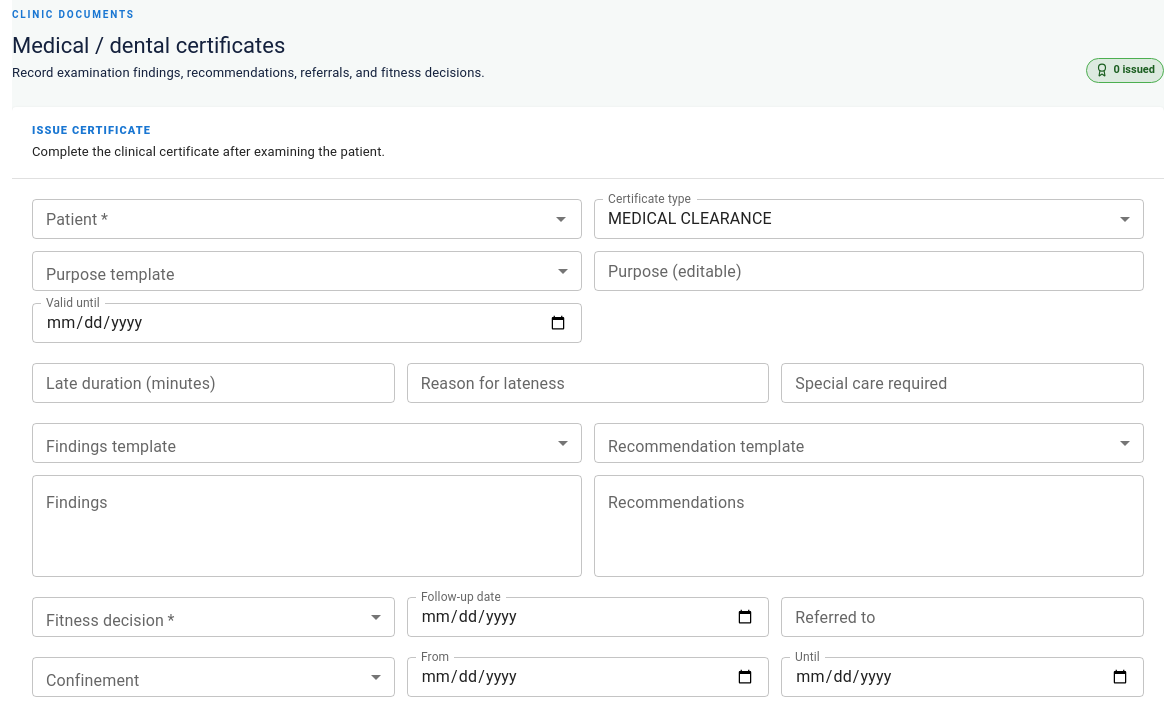
Test case: patient selection across clinical forms › Certificates puts the chosen patient in the input
The image size is (1164, 720).
Click the dropdown with placeholder "Search name or patient ID" at (290, 219), box top-left (38, 205), bottom-right (543, 233)
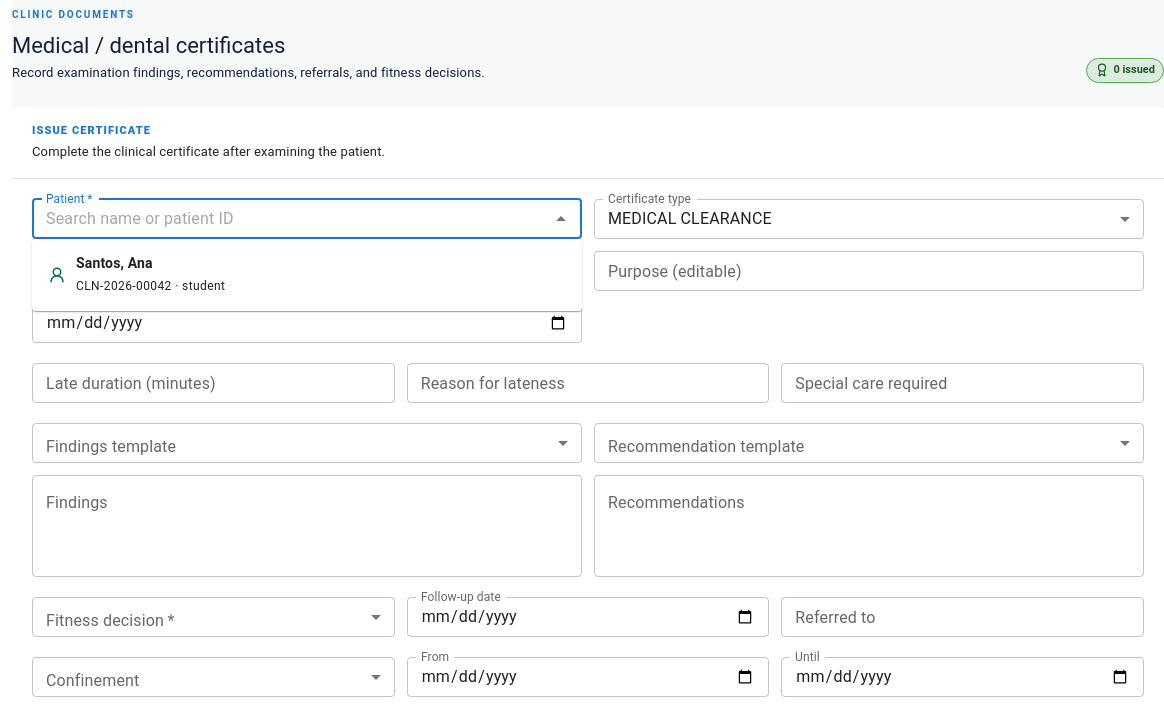
Click the option "Santos, Ana CLN-2026-00042 · student" at (137, 274), box top-left (48, 255), bottom-right (225, 293)
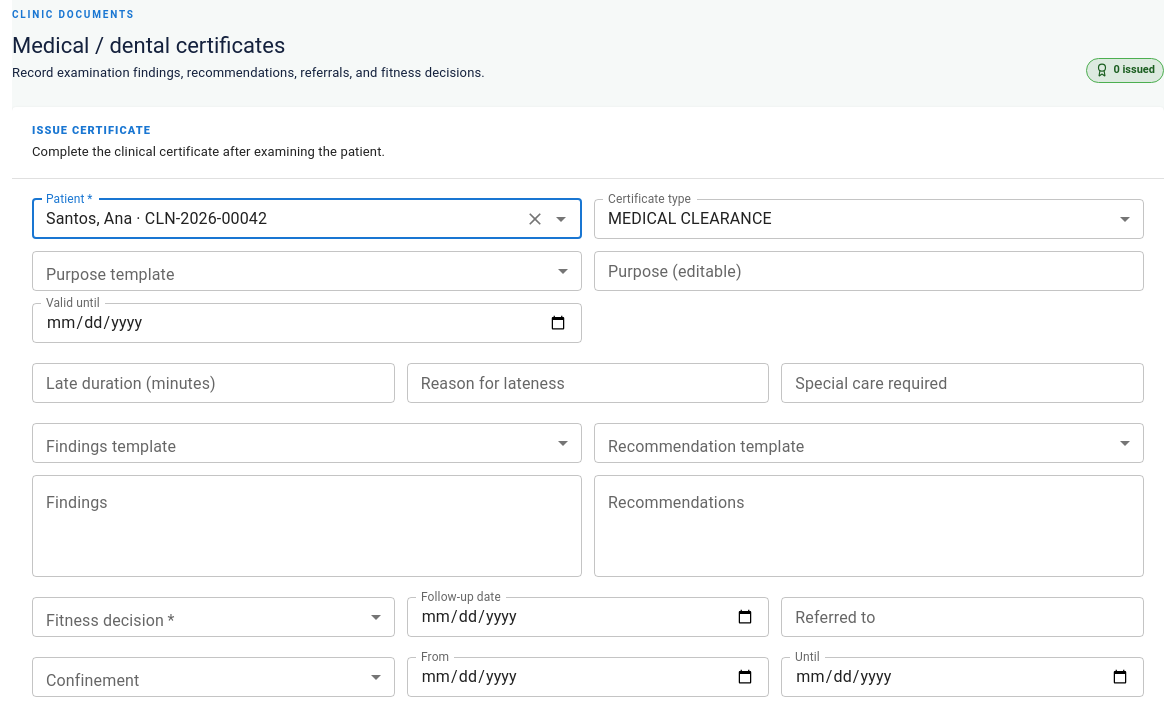
Result: the dropdown with placeholder "Search name or patient ID" holds "Santos, Ana · CLN-2026-00042" at top-left (38, 205), bottom-right (517, 233)
Result: the list is gone
